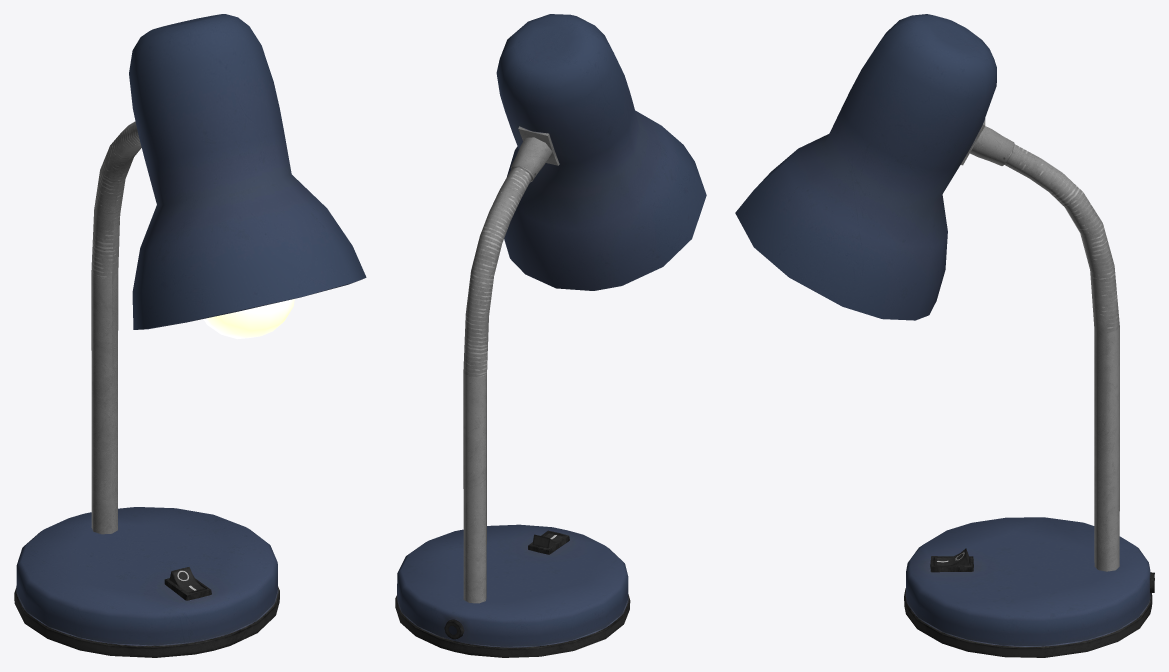
Rendered from lamp.glb.
The picture shows the model from 3 angles, left to right: view 1: azimuth 30°, elevation 25°; view 2: azimuth 150°, elevation 25°; view 3: azimuth 270°, elevation 25°; orthographic projection. The views are drawn at different scales.
Parts seen in each view (by area): view 1: Object_2; view 2: Object_2; view 3: Object_2.
Boxes of the visible parts, x1,y1,x2,y2 form: Object_2: [14, 14, 366, 657]; Object_2: [395, 14, 706, 657]; Object_2: [735, 14, 1154, 657].
Bounding box in the file's own units: 4.93 × 12.9 × 8.39.
1 material, 1 textured.
